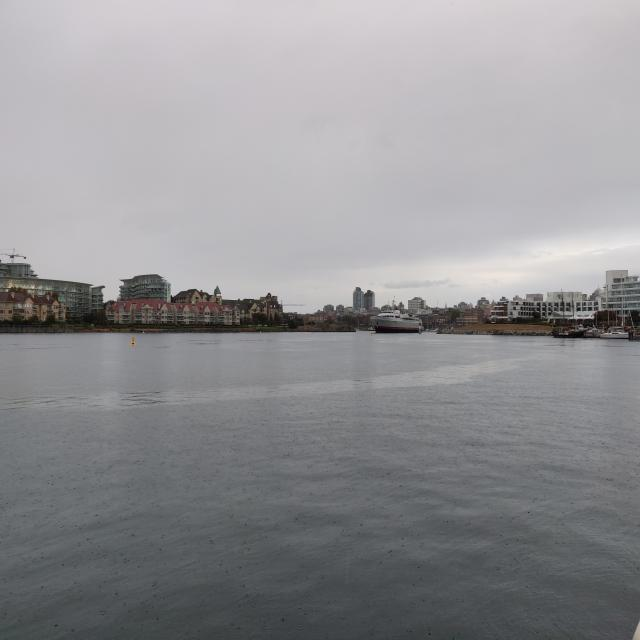boat: (600, 274, 630, 339), (370, 300, 422, 334), (552, 288, 585, 339)
mark: (130, 337, 136, 345), (418, 322, 422, 334), (142, 330, 145, 334), (371, 332, 373, 336), (260, 331, 261, 333)
